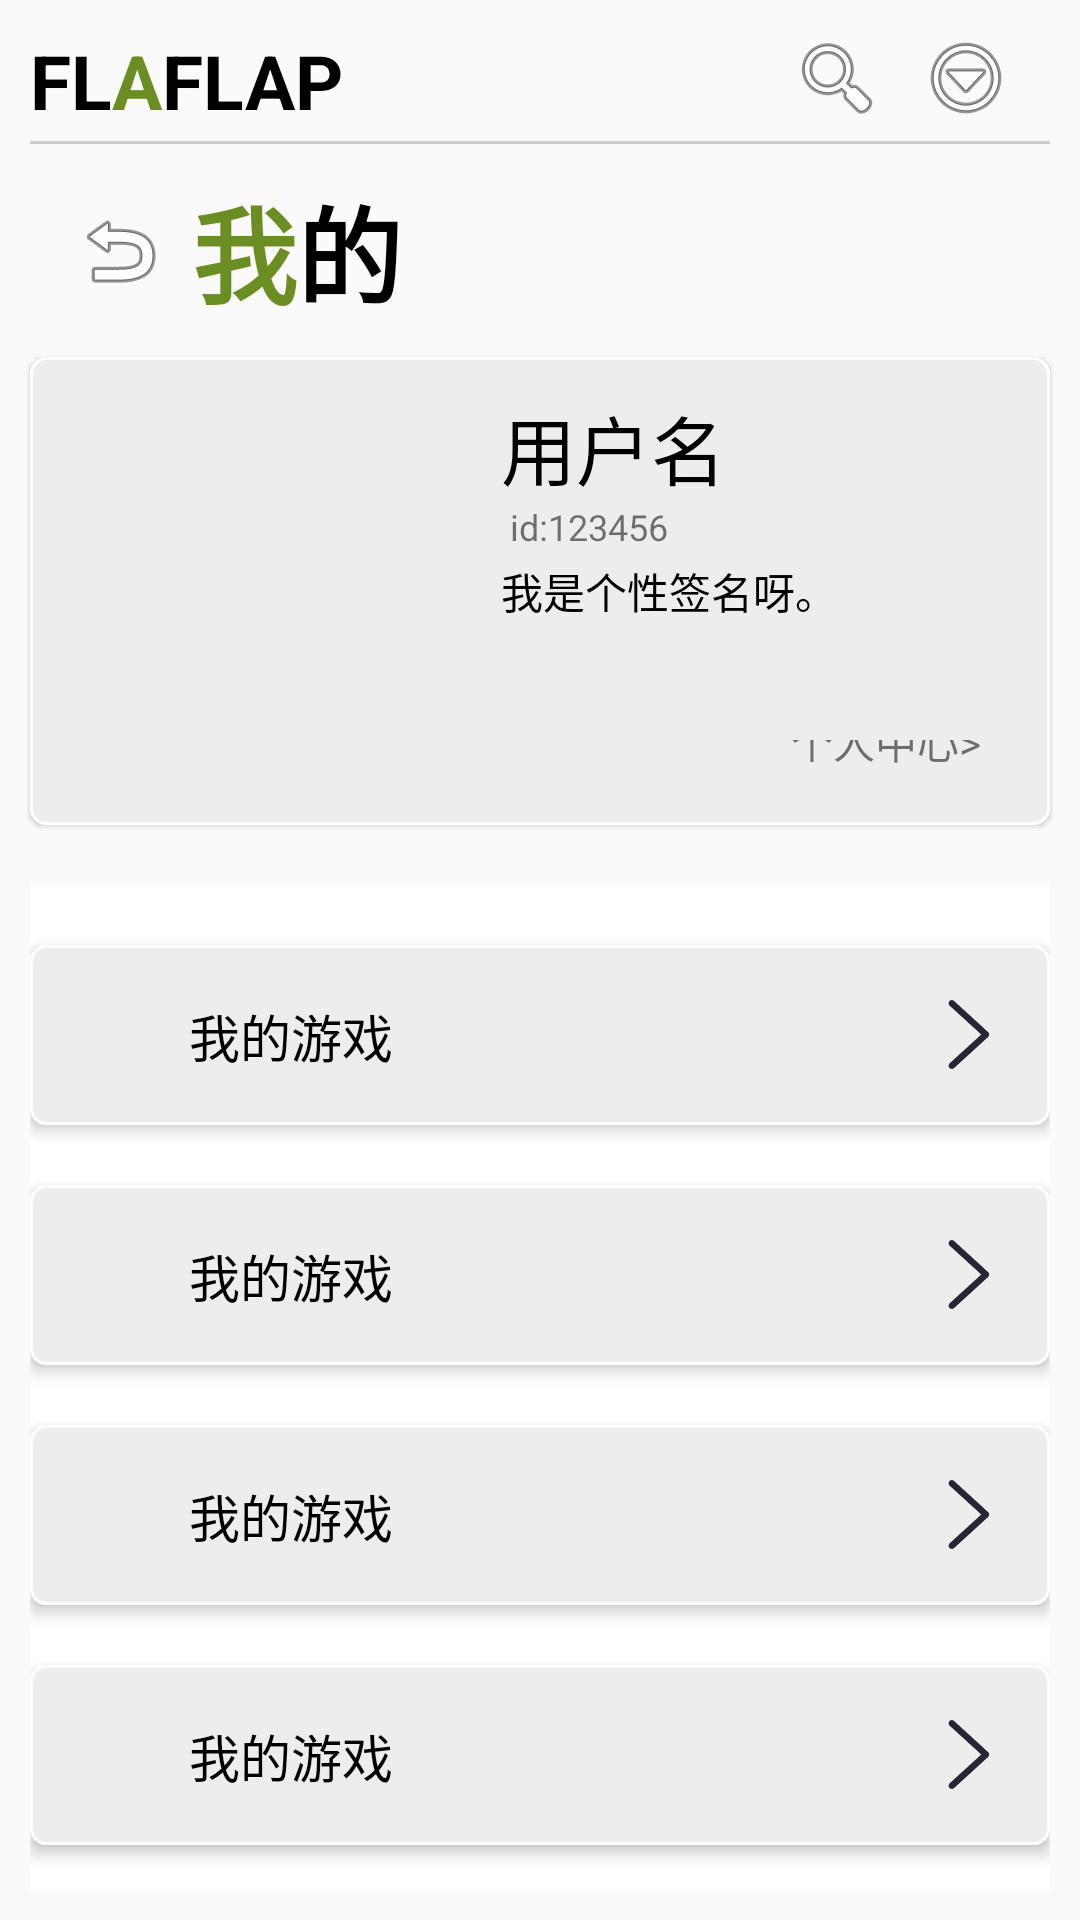

Locate icon controls on the screen. Image size 1080px x 1920px, boxes as (x1, y1, x2, y2).
Back: (87, 220, 156, 283)
Menu: (930, 42, 1002, 114)
Search: (801, 43, 873, 114)
